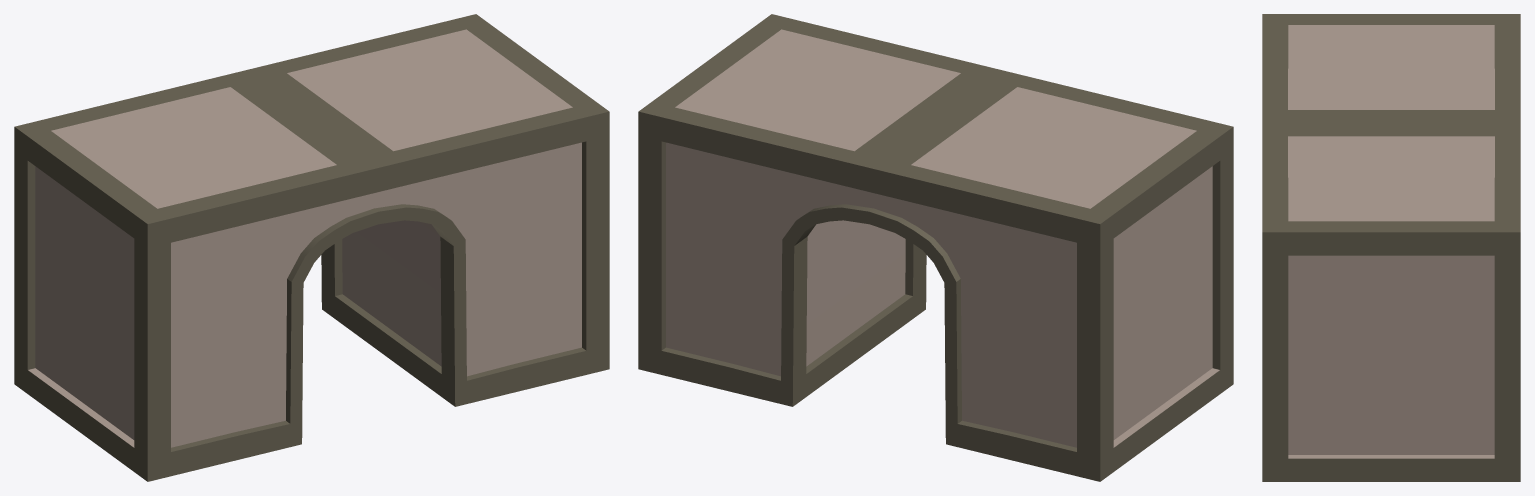
The model's file is ArchSml.fbx.
3 views of the same model, side by side, from view 1: azimuth 30°, elevation 25°; view 2: azimuth 150°, elevation 25°; view 3: azimuth 270°, elevation 25° (orthographic). The views are drawn at different scales.
Visible parts, largest first — view 1: ArchSml; view 2: ArchSml; view 3: ArchSml.
Part boxes in pixels (x1,y1,x2,y2): ArchSml: (14, 14, 609, 481); ArchSml: (638, 14, 1233, 481); ArchSml: (1262, 14, 1520, 481).
Size of the model in its own units: 600 by 300 by 320.
